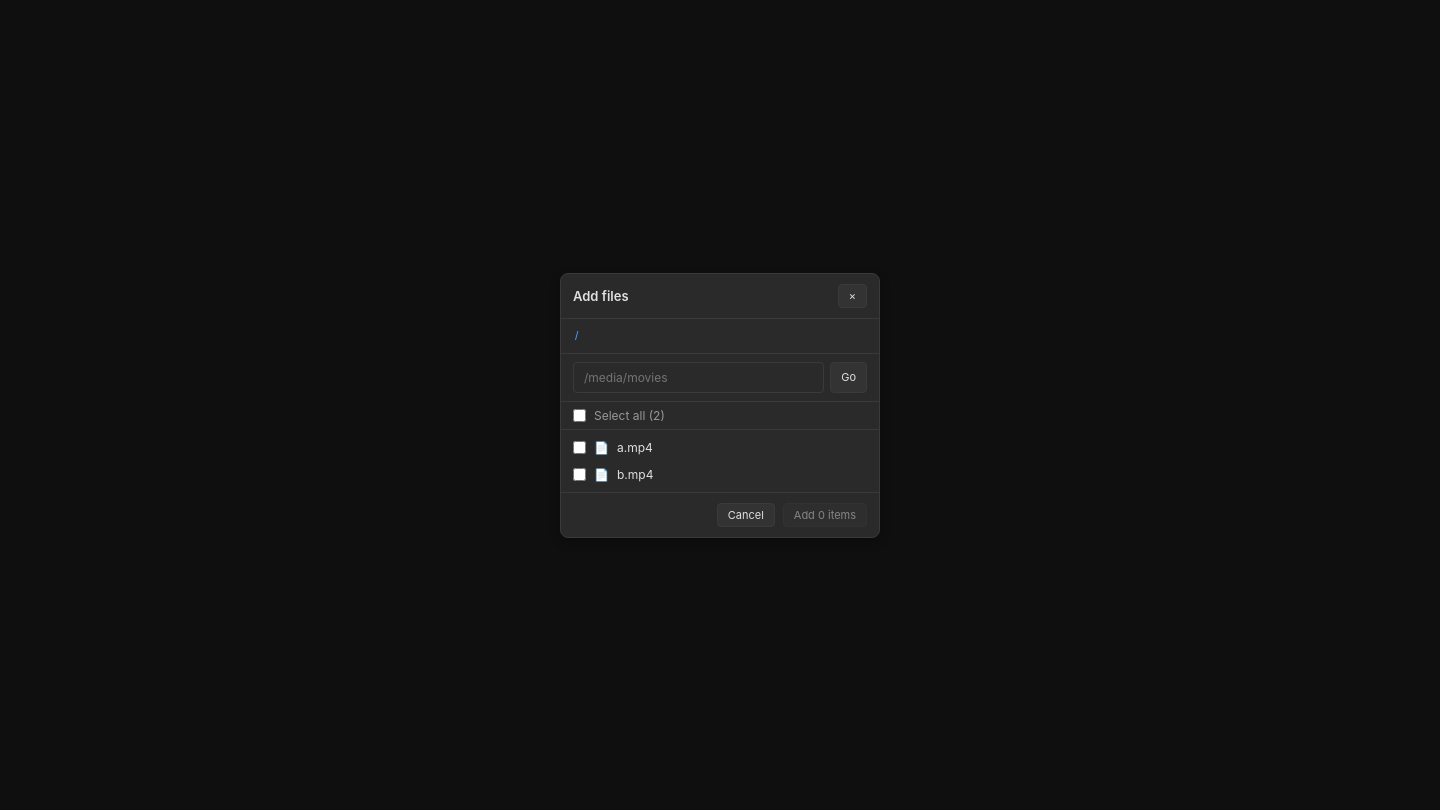
Test: FileBrowserModal › shows the select-all box as indeterminate when only some rows are selected
Check: the checkbox labelled "Select all" is not checked, box x1=573 y1=408 x2=586 y2=422
Click the text "a.mp4" at {"x": 635, "y": 447}, box x1=617 y1=440 x2=653 y2=454
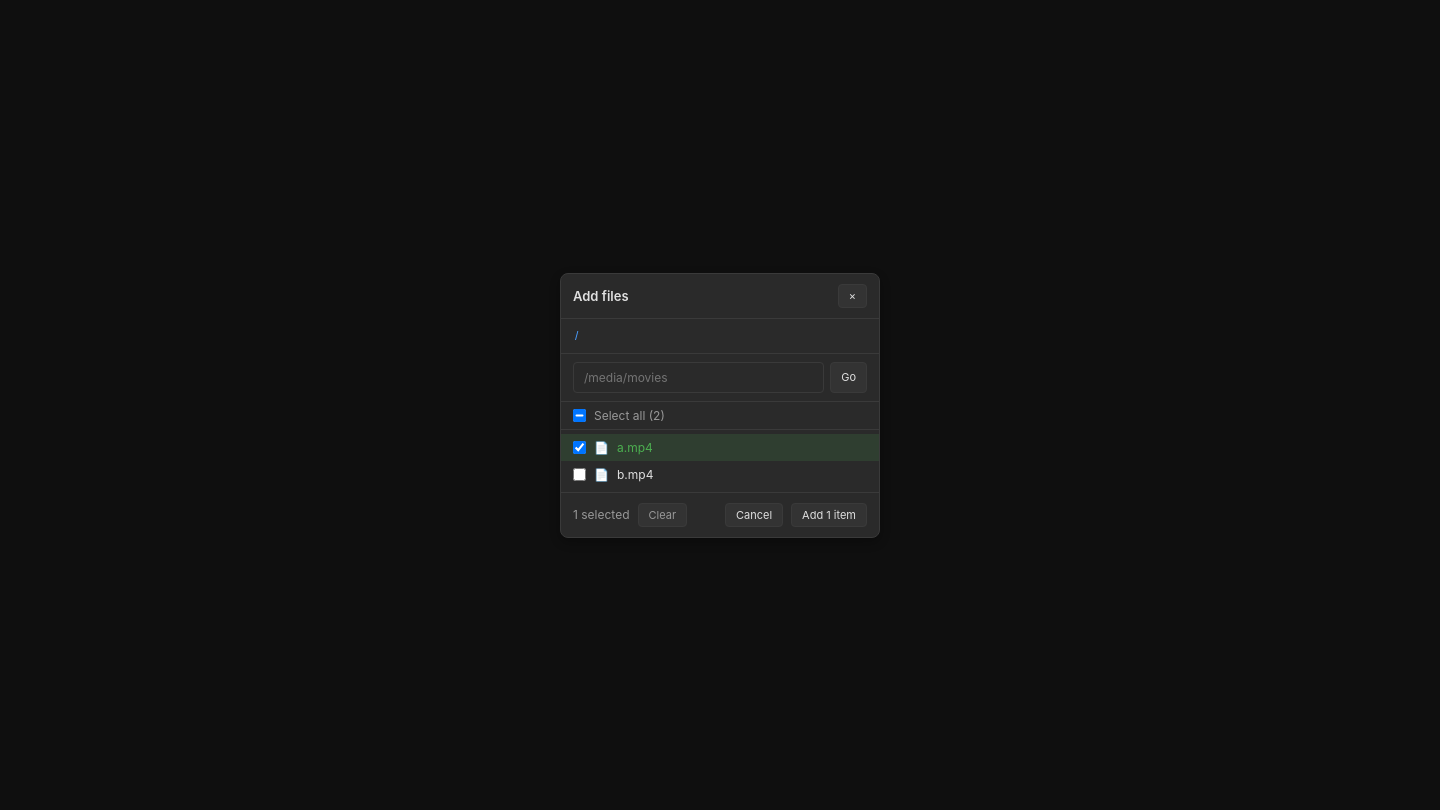
Click the text "b.mp4" at {"x": 635, "y": 474}, box x1=617 y1=466 x2=653 y2=482
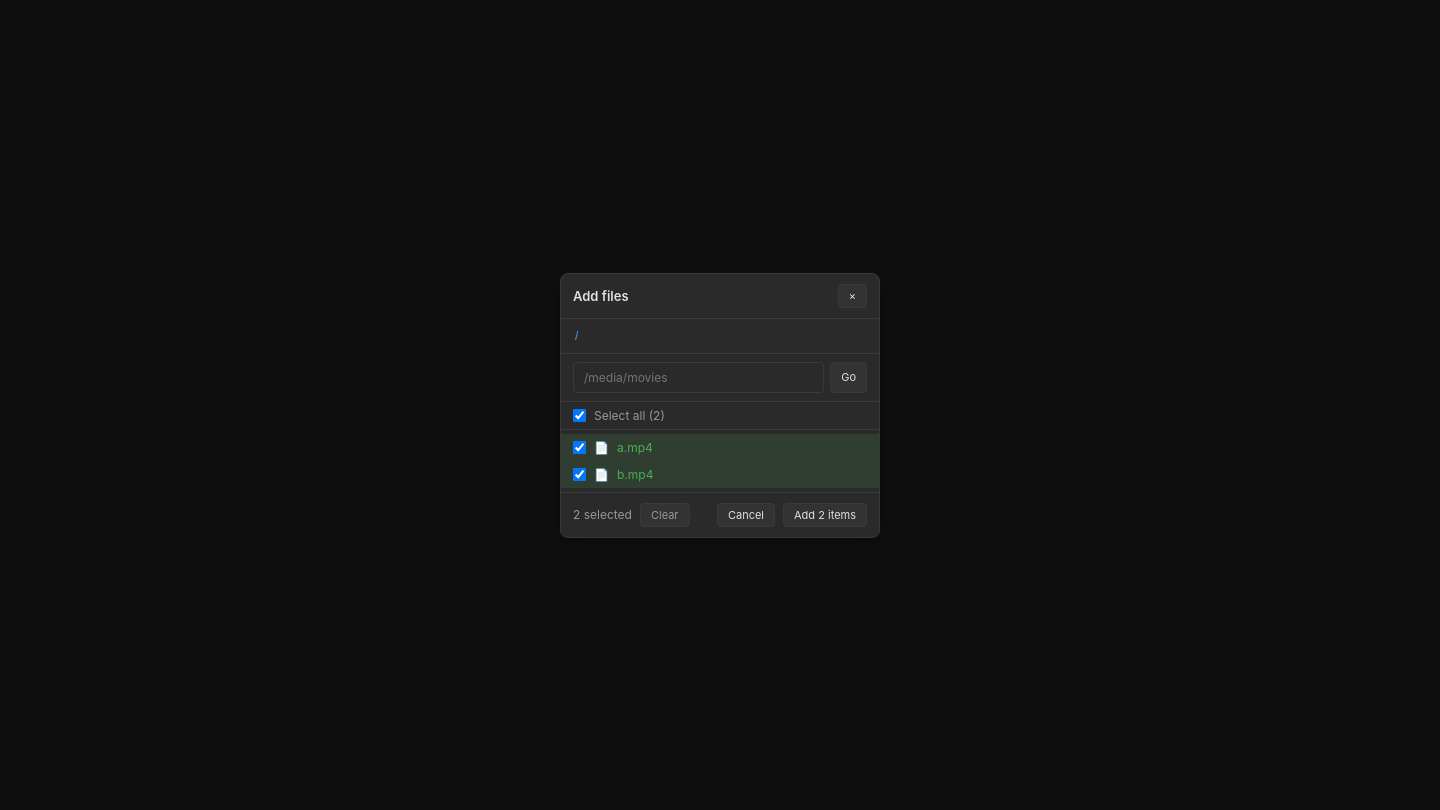
Check: the checkbox labelled "Select all" is checked, box x1=573 y1=408 x2=586 y2=422
